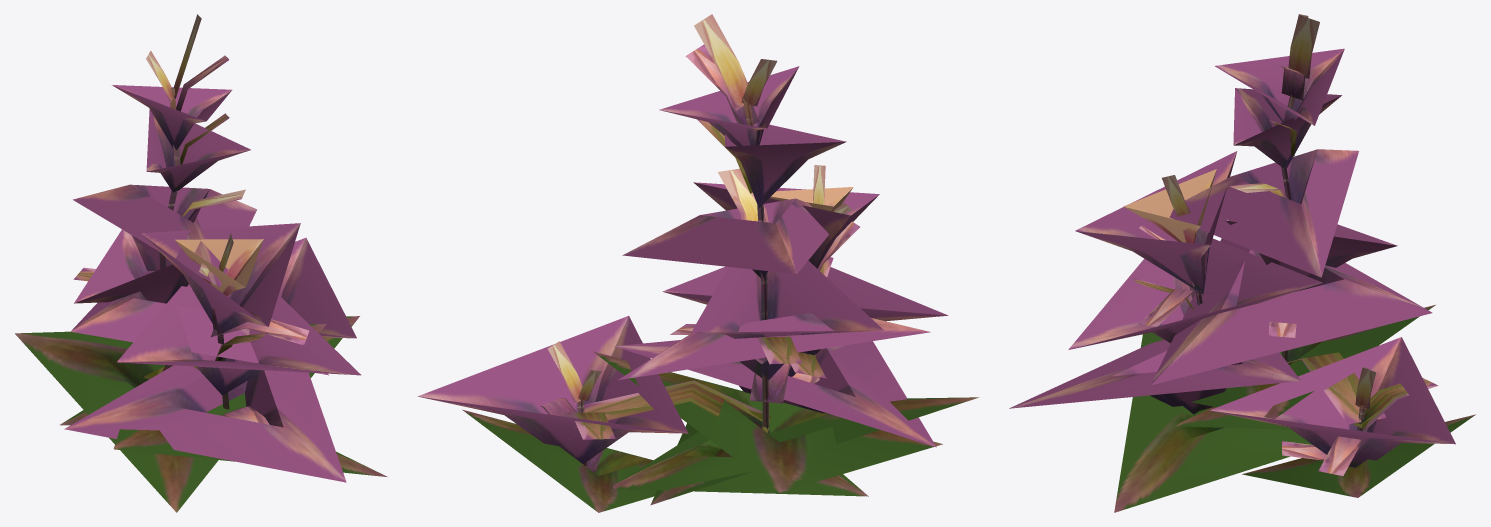
Rendered from wm_灌木洛阳城大灌05.fbx.
3 renders of one model, left to right at view 1: azimuth 30°, elevation 25°; view 2: azimuth 150°, elevation 25°; view 3: azimuth 270°, elevation 25°, orthographic. The views are drawn at different scales.
Parts seen in each view (by area): view 1: wm_灌木洛阳城大灌05; view 2: wm_灌木洛阳城大灌05; view 3: wm_灌木洛阳城大灌05.
Part boxes in pixels (x1,y1,x2,y2): wm_灌木洛阳城大灌05: (15, 14, 387, 512); wm_灌木洛阳城大灌05: (417, 14, 978, 512); wm_灌木洛阳城大灌05: (1009, 14, 1475, 512).
Bounding box in the file's own units: 187 × 214 × 202.
